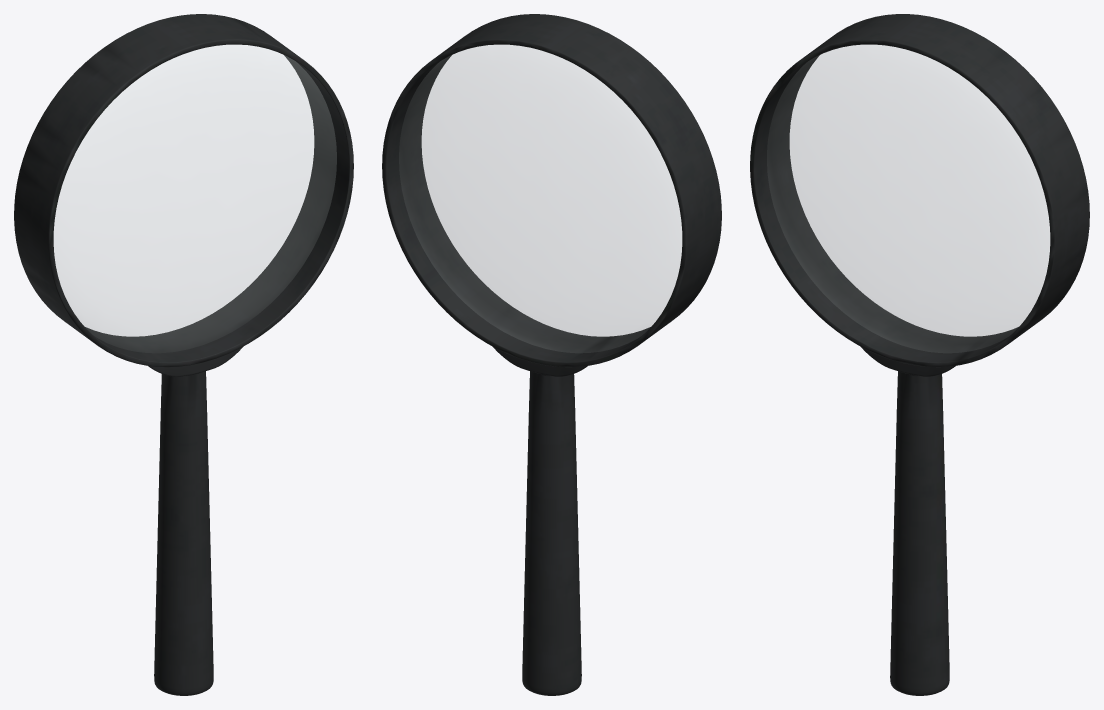
File: magnifying_glass_01.glb
3 renders of one model, left to right at view 1: azimuth 30°, elevation 25°; view 2: azimuth 150°, elevation 25°; view 3: azimuth 330°, elevation 25°, orthographic.
Visible parts, largest first — view 1: magnifying_glass_01; view 2: magnifying_glass_01; view 3: magnifying_glass_01.
Boxes of the visible parts, bbox=[...] form: magnifying_glass_01: bbox=[14, 14, 353, 695]; magnifying_glass_01: bbox=[382, 14, 721, 695]; magnifying_glass_01: bbox=[750, 14, 1089, 695].
Bounding box in the file's own units: 0.1321 × 0.2716 × 0.0267.
Materials: 2 (1 with a texture image).
